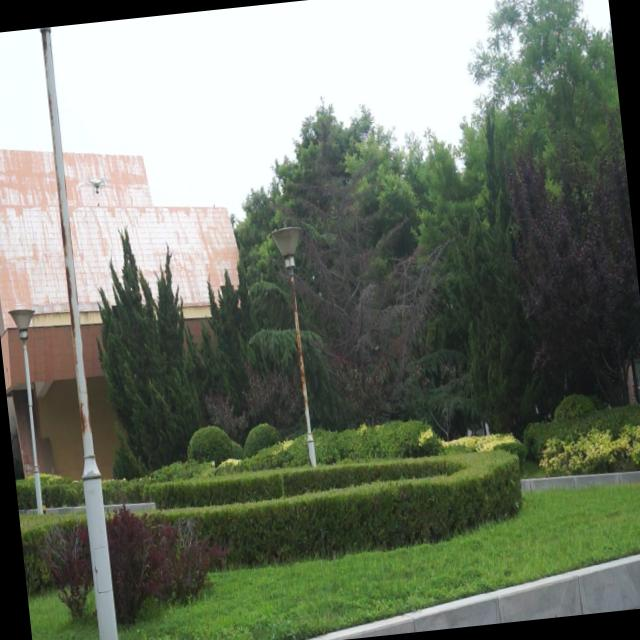drone: (82, 171, 111, 201)
